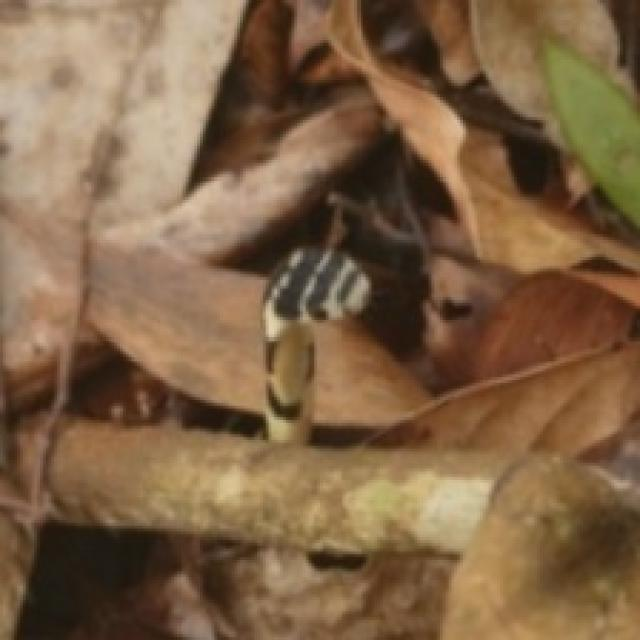king cobra: (263, 246, 369, 440)
